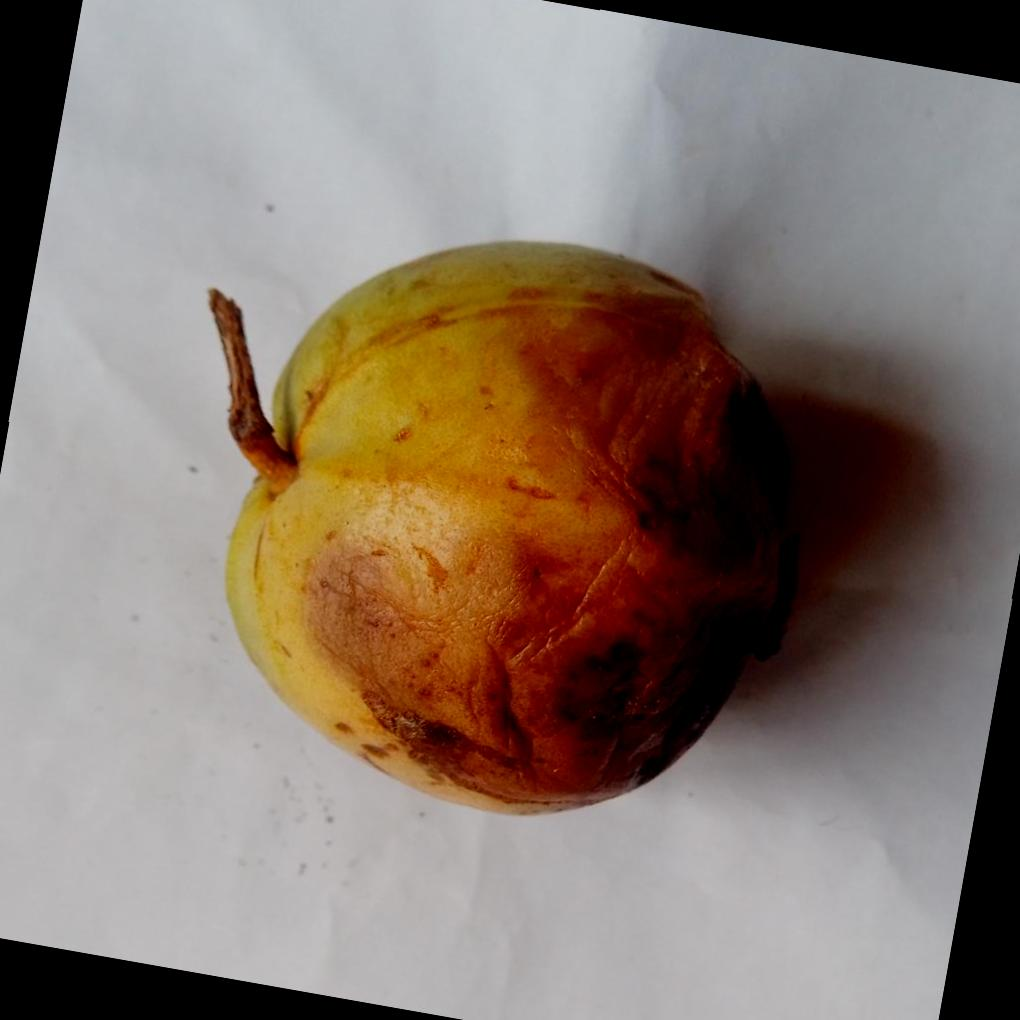FreshOrange: (209, 239, 802, 818)
